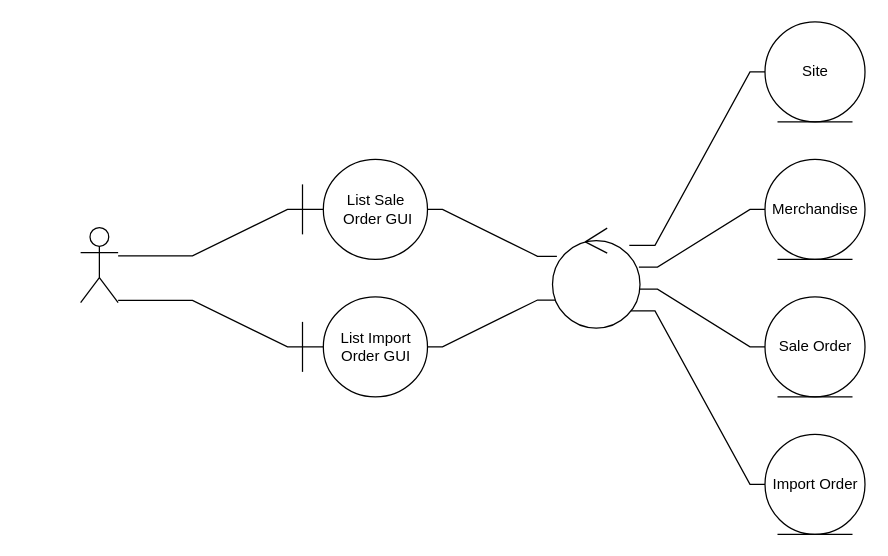
Some shapes in this 888 by 556 pixel diagram are drawn without their labels. The centre of each missing label's shape, as x and y in pixels:
"Import Order Controller" goes at (595,277).
"Import Order Employee" goes at (98,264).
